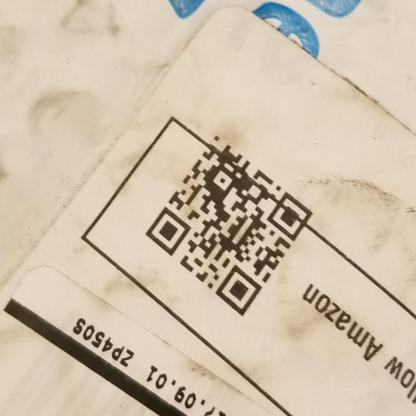qr: (143, 131, 320, 324)
